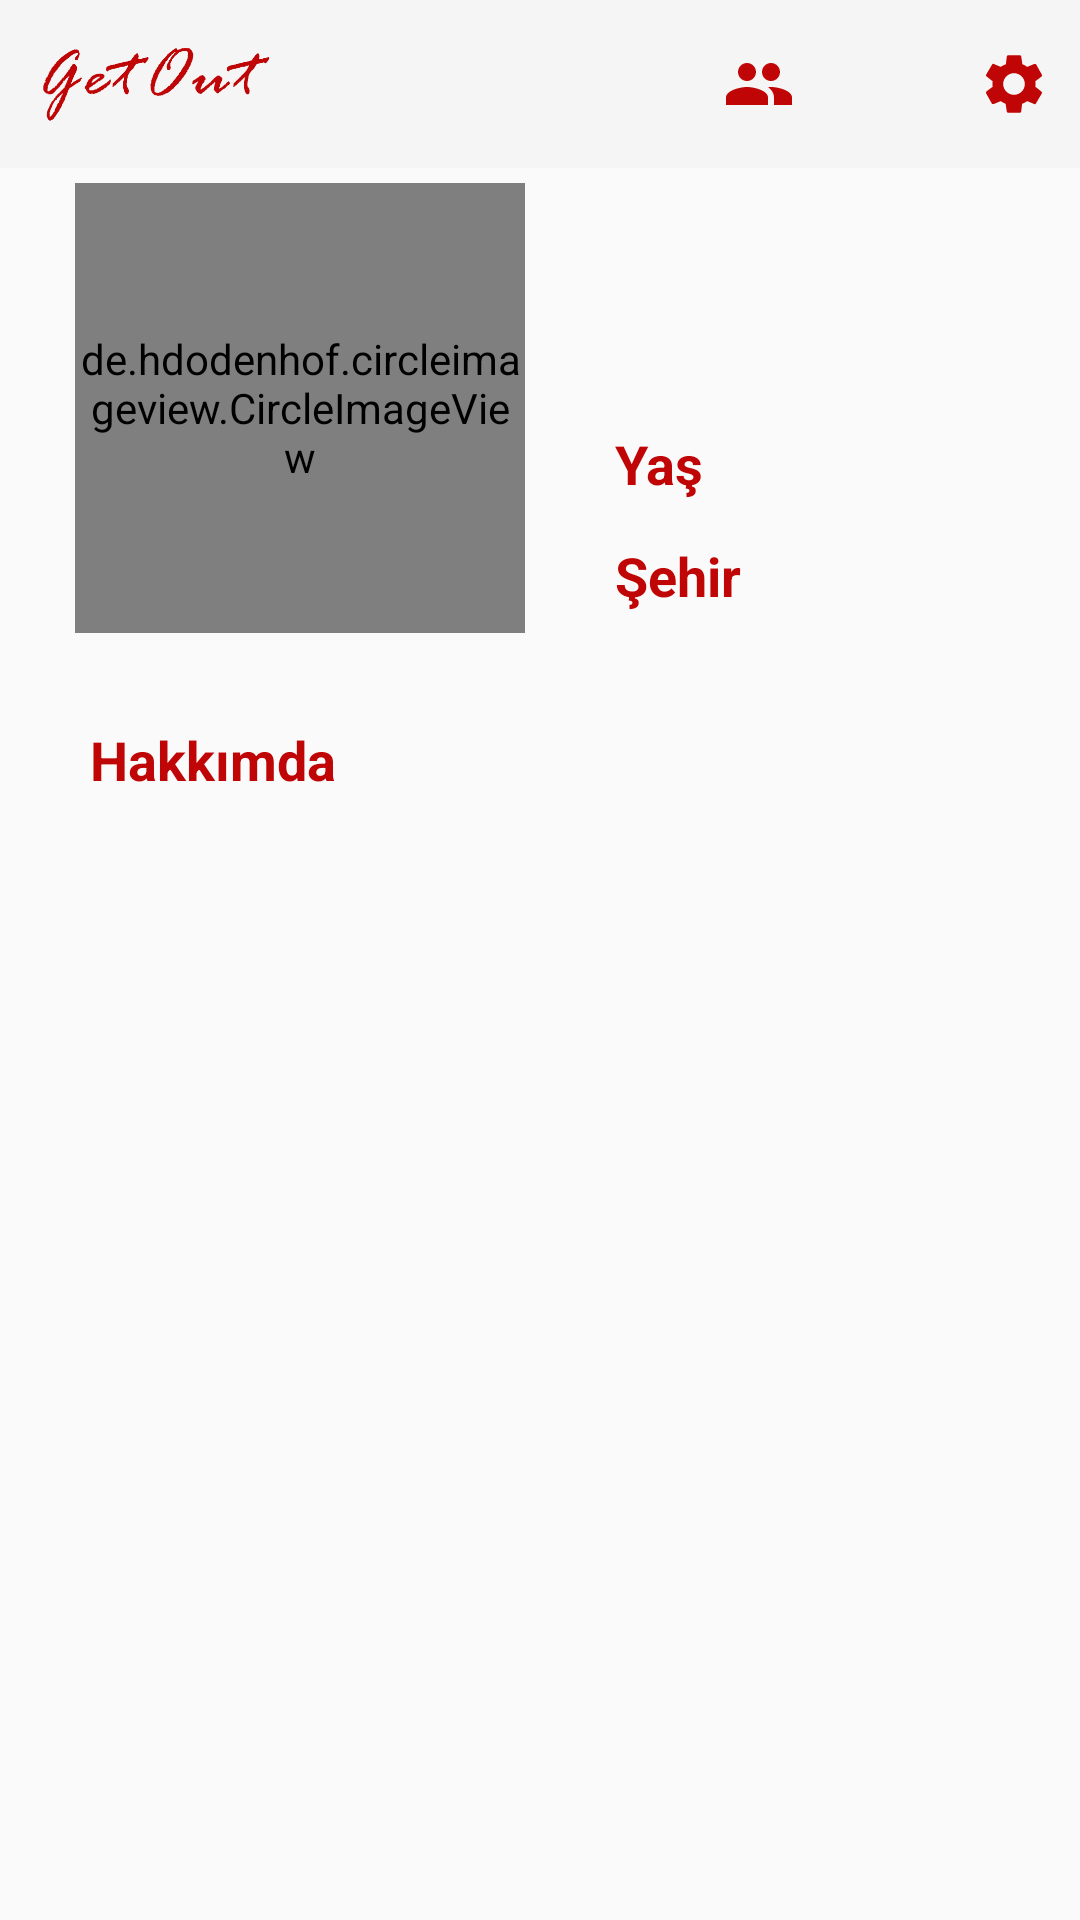

Where icons sit on this 1080px x 1920px app screen, as [left=x1, top=y1, right=x2, bottom=y2]:
people: [left=726, top=63, right=792, bottom=105]
settings: [left=986, top=55, right=1042, bottom=113]
